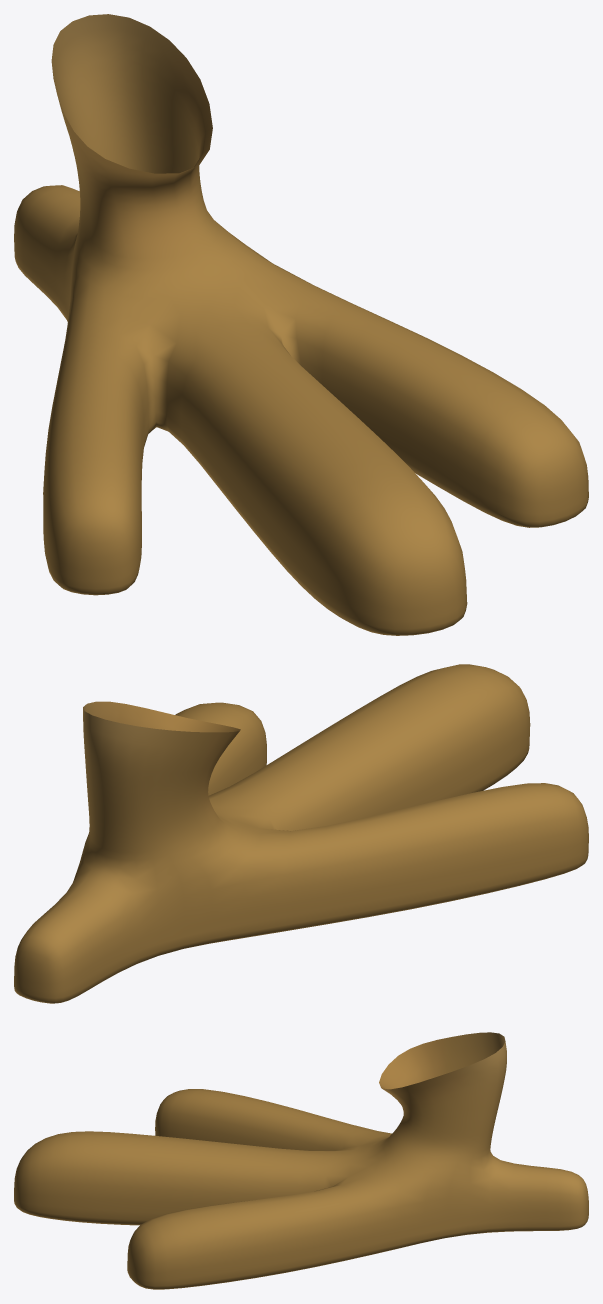
File: CuckoPataL.obj
3 views of the same model, one above another, from view 1: azimuth 30°, elevation 25°; view 2: azimuth 150°, elevation 25°; view 3: azimuth 270°, elevation 25° (orthographic). The views are drawn at different scales.
Visible parts, largest first — view 1: Cucco_body.001_Sphere.003; view 2: Cucco_body.001_Sphere.003; view 3: Cucco_body.001_Sphere.003.
Part boxes in pixels (x1=…): Cucco_body.001_Sphere.003: x1=14, y1=14, x2=588, y2=635; Cucco_body.001_Sphere.003: x1=14, y1=664, x2=588, y2=1003; Cucco_body.001_Sphere.003: x1=14, y1=1032, x2=588, y2=1289.
Size of the model in its own units: 0.9936 by 0.5993 by 1.63.
